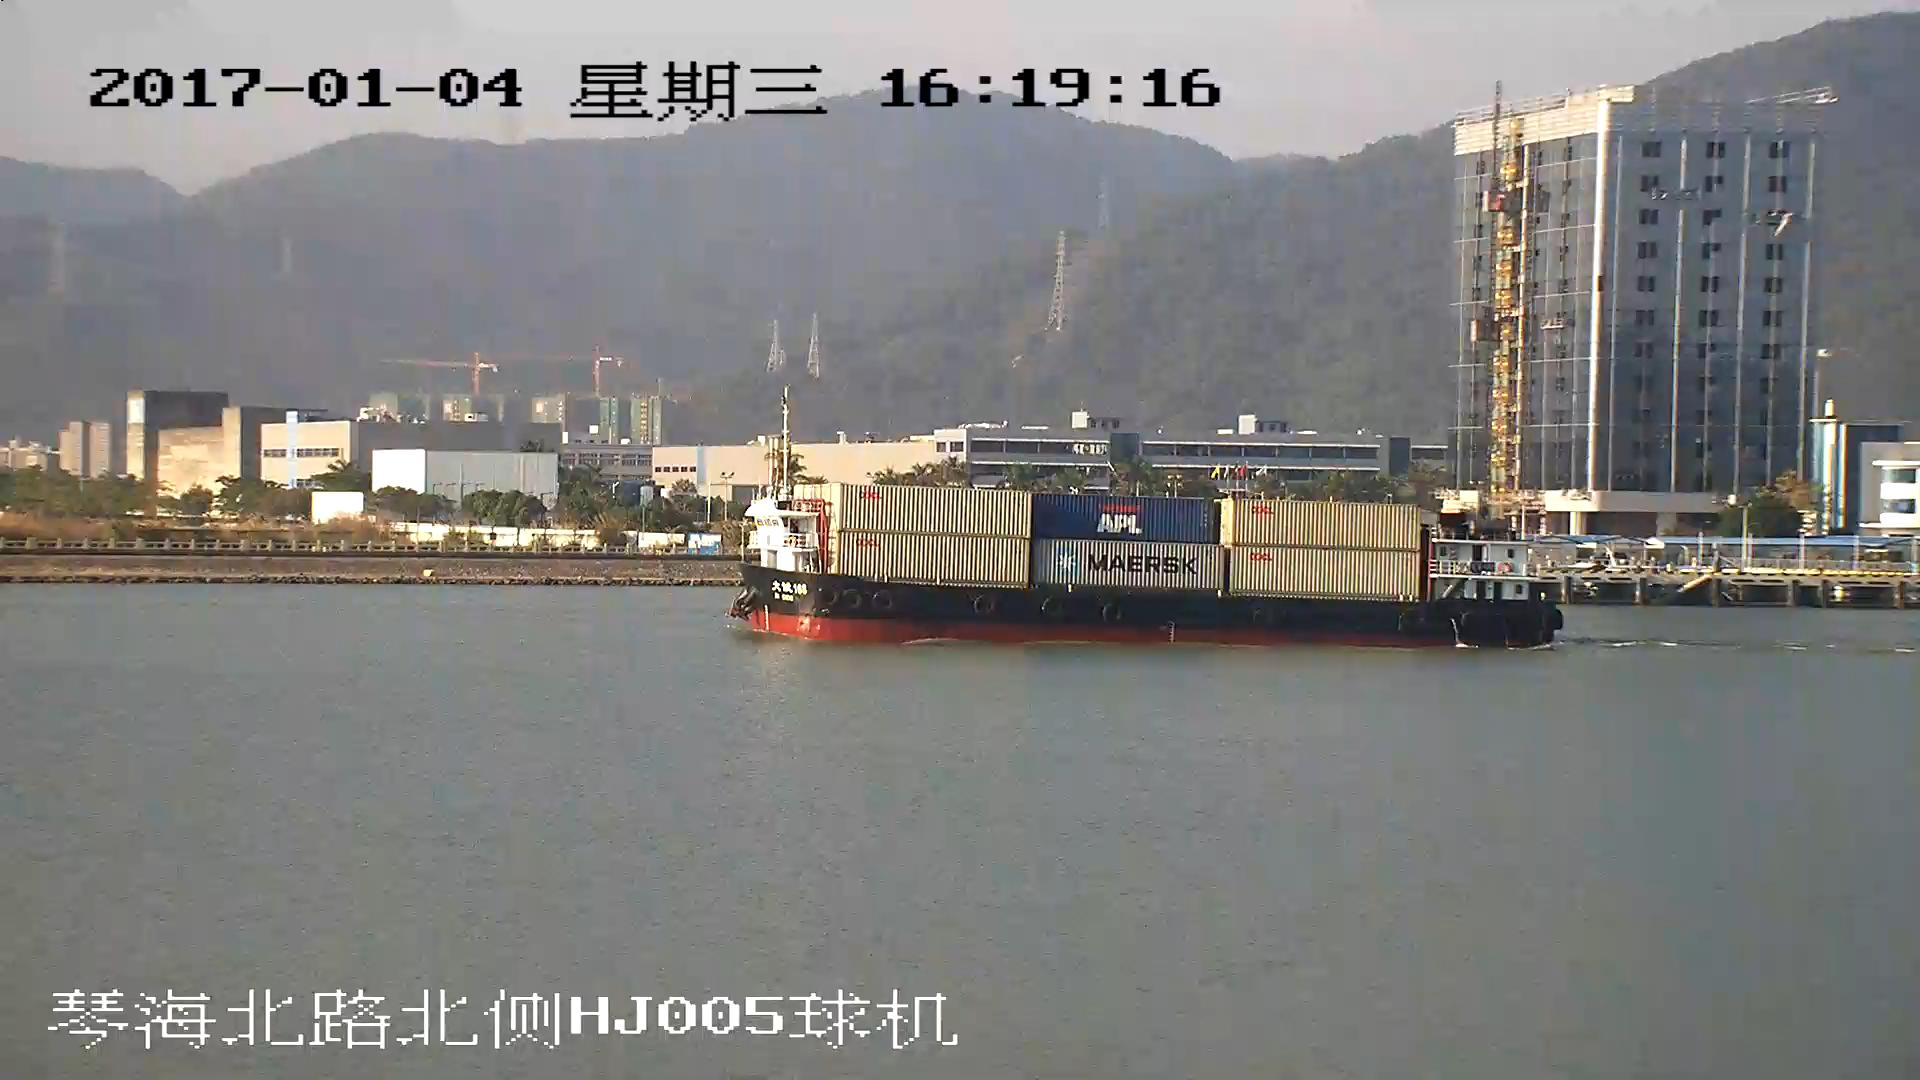container ship: (728, 480, 1565, 649)
